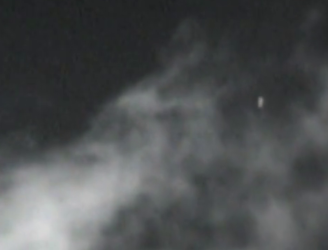Target: (258, 98, 262, 107)
